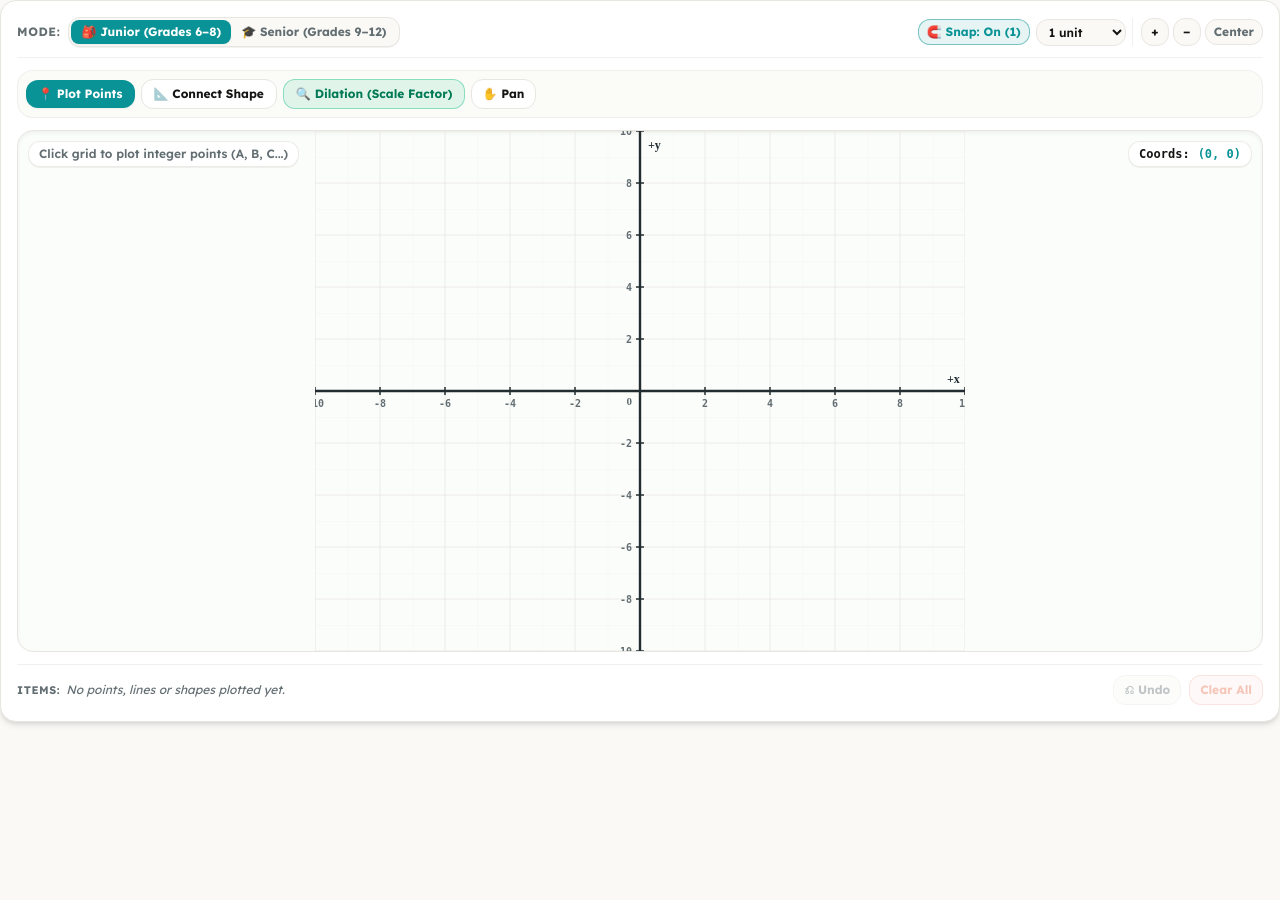
it: CartesianGrapher Component › switches between Junior and Senior grade modes seamlessly
The image size is (1280, 900).
Check: the button "📐 Connect Shape" is shown, box [140, 79, 277, 109]
// Switch to Senior mode
Click the button "🎓 Senior (Grades 9–12)". click: {"x": 314, "y": 32}
box: [231, 20, 396, 44]
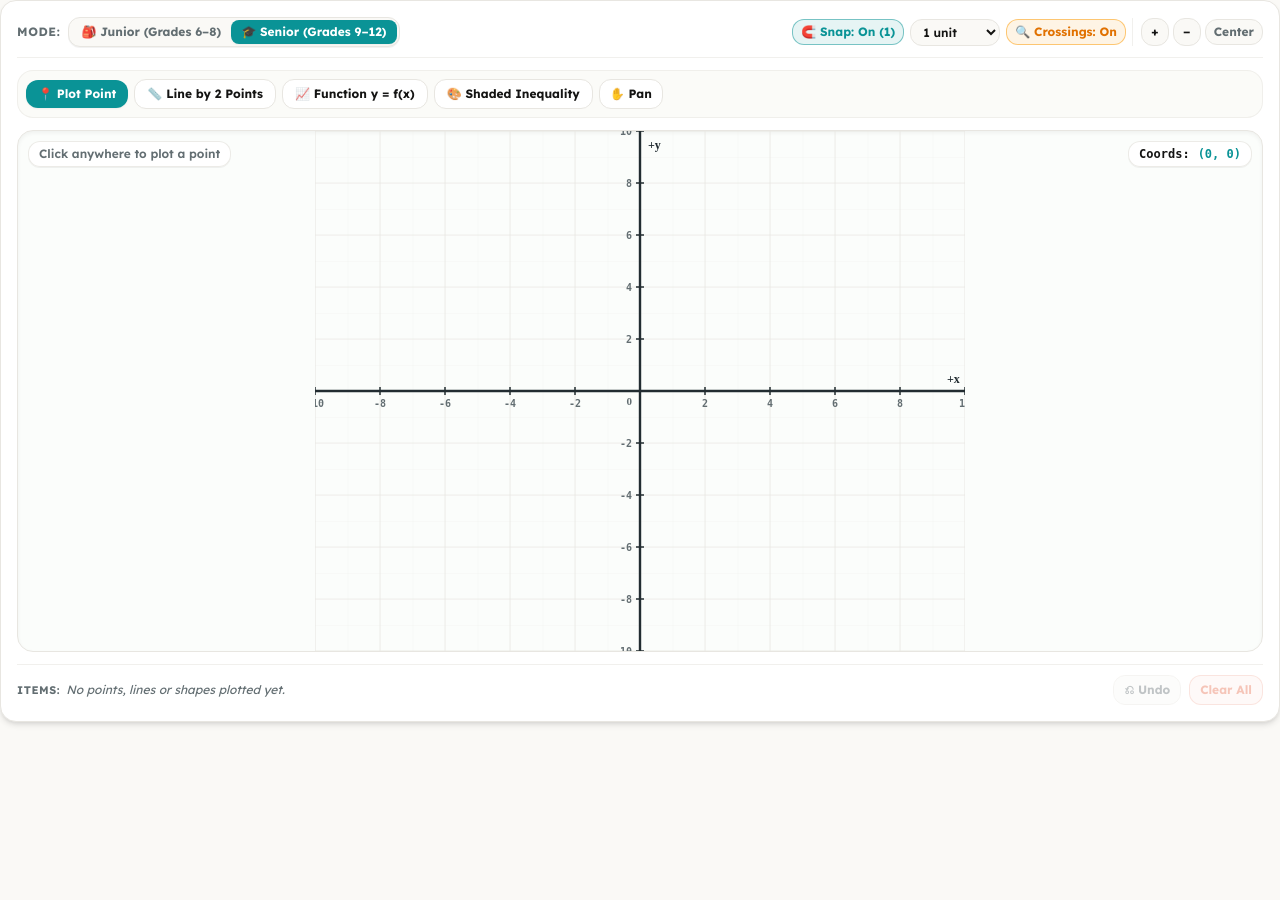
Check: the button "📏 Line by 2 Points" is shown, box [134, 79, 276, 109]
Check: the button "📈 Function y = f(x)" is shown, box [282, 79, 428, 109]
